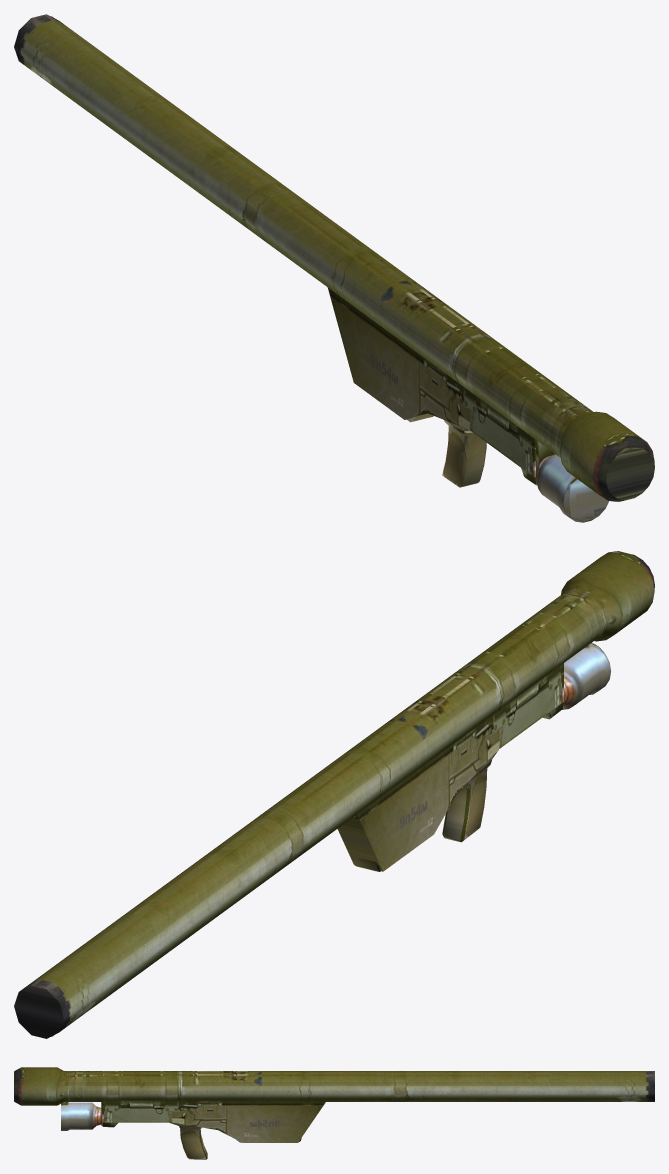
The model's file is pzrk.FBX.
3 renders of one model, top to bottom at view 1: azimuth 30°, elevation 25°; view 2: azimuth 150°, elevation 25°; view 3: azimuth 270°, elevation 25°, orthographic. The views are drawn at different scales.
Visible parts, largest first — view 1: Cylinder001, lod; view 2: lod, Cylinder001; view 3: lod, Cylinder001.
Boxes of the visible parts, bbox=[...] form: Cylinder001: bbox=[16, 15, 654, 522]; lod: bbox=[14, 14, 593, 477]; lod: bbox=[14, 586, 609, 1038]; Cylinder001: bbox=[23, 551, 654, 1036]; lod: bbox=[63, 1071, 654, 1142]; Cylinder001: bbox=[14, 1067, 653, 1159].
Size of the model in its own units: 10.16 by 25.58 by 168.
